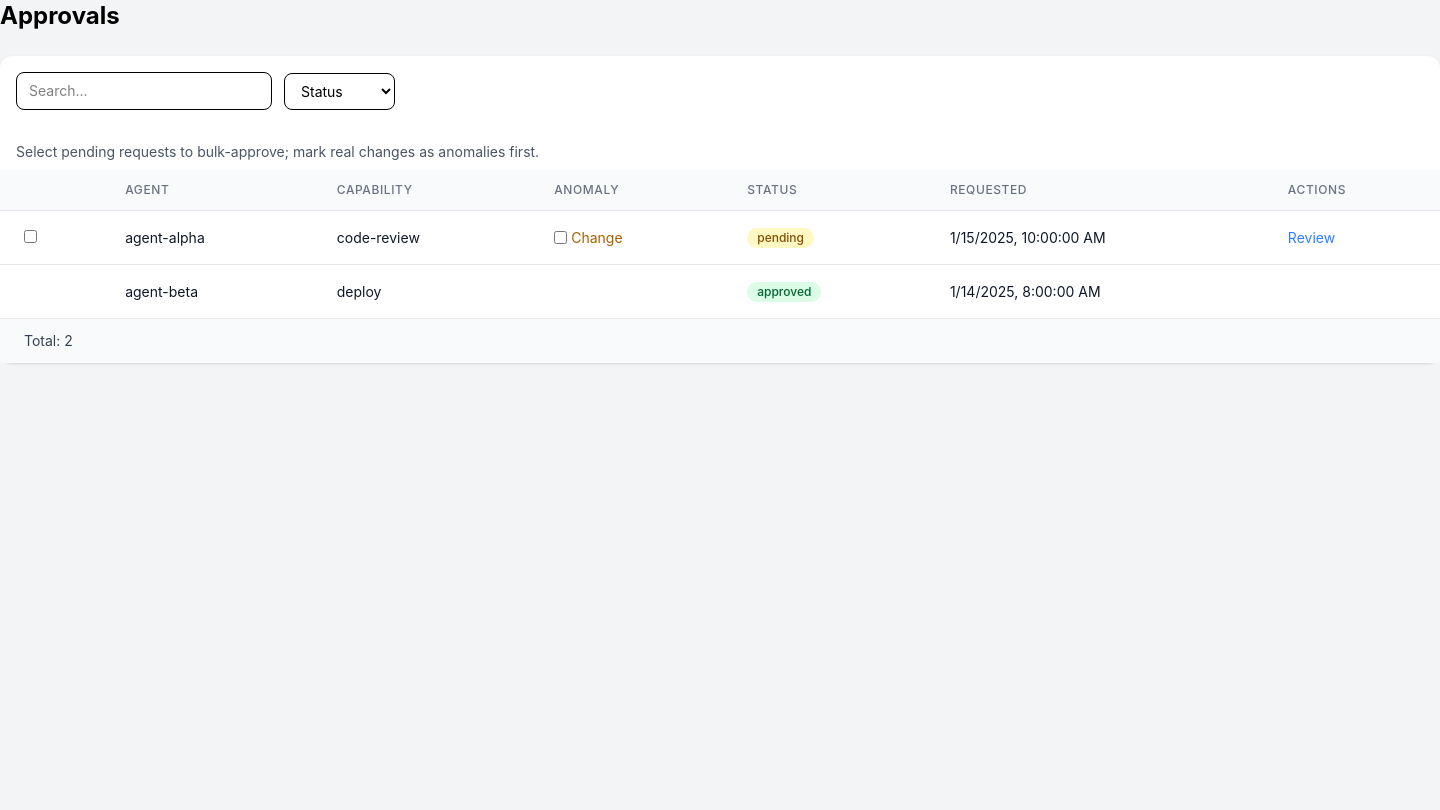
Test: ApprovalsPage › review side panel shows request details (agent, capability, server)
What coordinates should you click on to do the following:
click the button "Review"
I would click on:
 (1311, 238)
Its box is top-left (1288, 228), bottom-right (1335, 248).
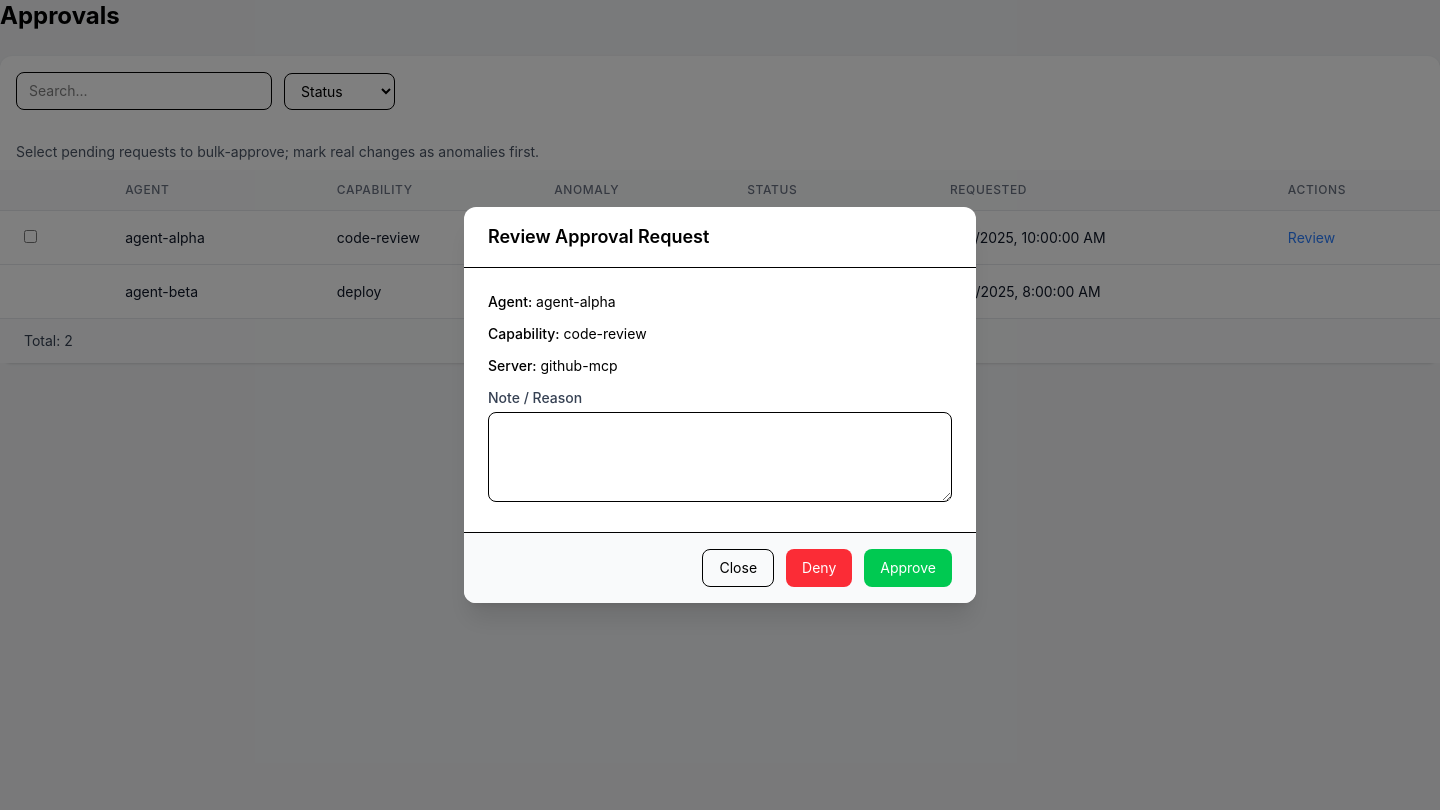
Expected: the text "code-review" is shown 2 times, top-left (313, 210), bottom-right (530, 264); top-left (488, 325), bottom-right (647, 342)
Now the heading "Review Approval Request" is shown, box top-left (488, 226), bottom-right (709, 247)
Now the text "github-mcp" is shown, box top-left (540, 357), bottom-right (618, 374)
